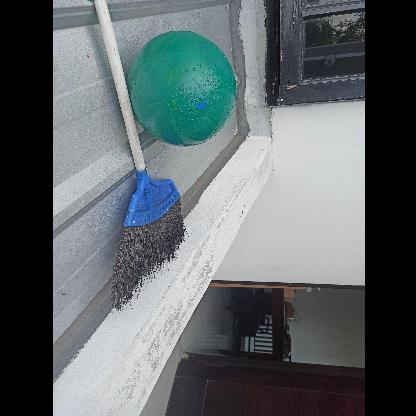green_ball: (127, 29, 241, 143)
